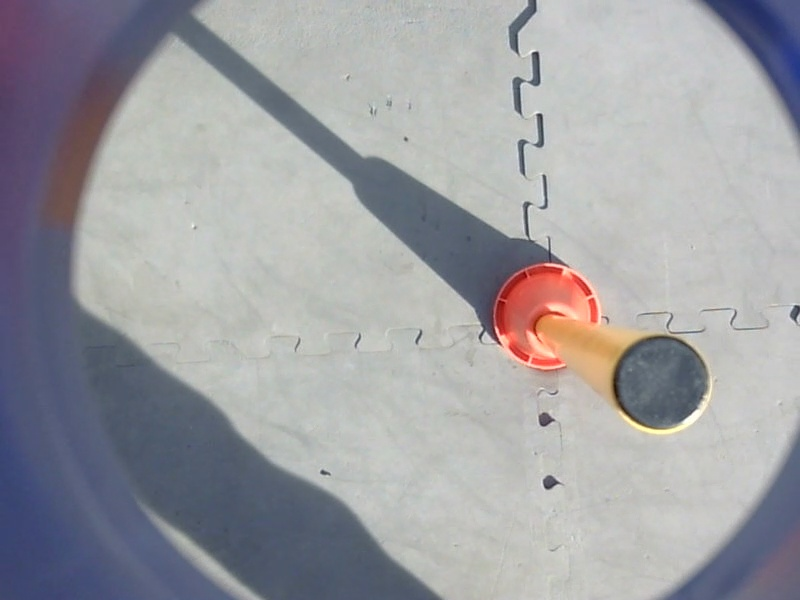tip: (602, 328, 720, 441)
